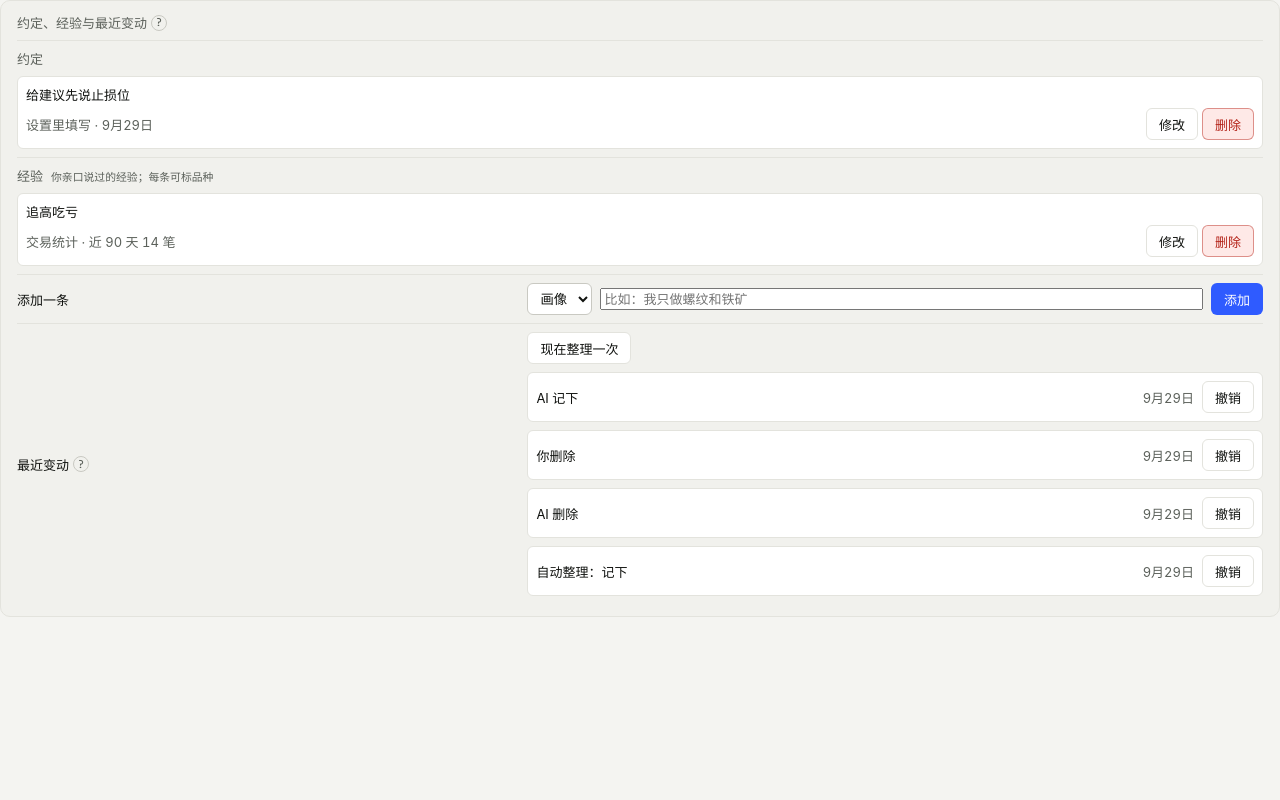
the consolidate button posts, reports its result and shows a 429's detail
The image size is (1280, 800).
Expected: the text "给建议先说止损位" is shown, [26,87,130,103]
Click the button "现在整理一次": x=579, y=348 [527,332,631,364]
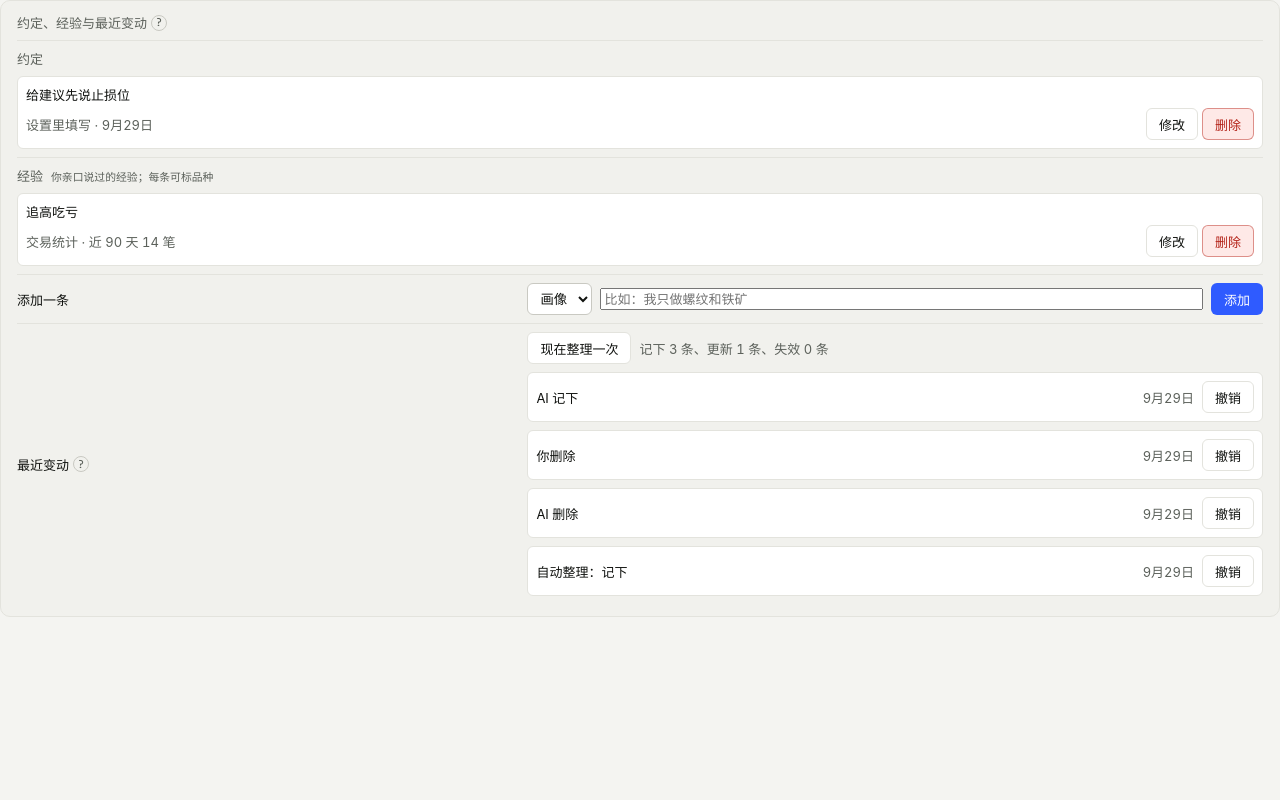
Now the text "记下 3 条、更新 1 条、失效 0 条" is shown, box [639,338,829,358]
Click the button "现在整理一次": x=579, y=348 [527,332,631,364]
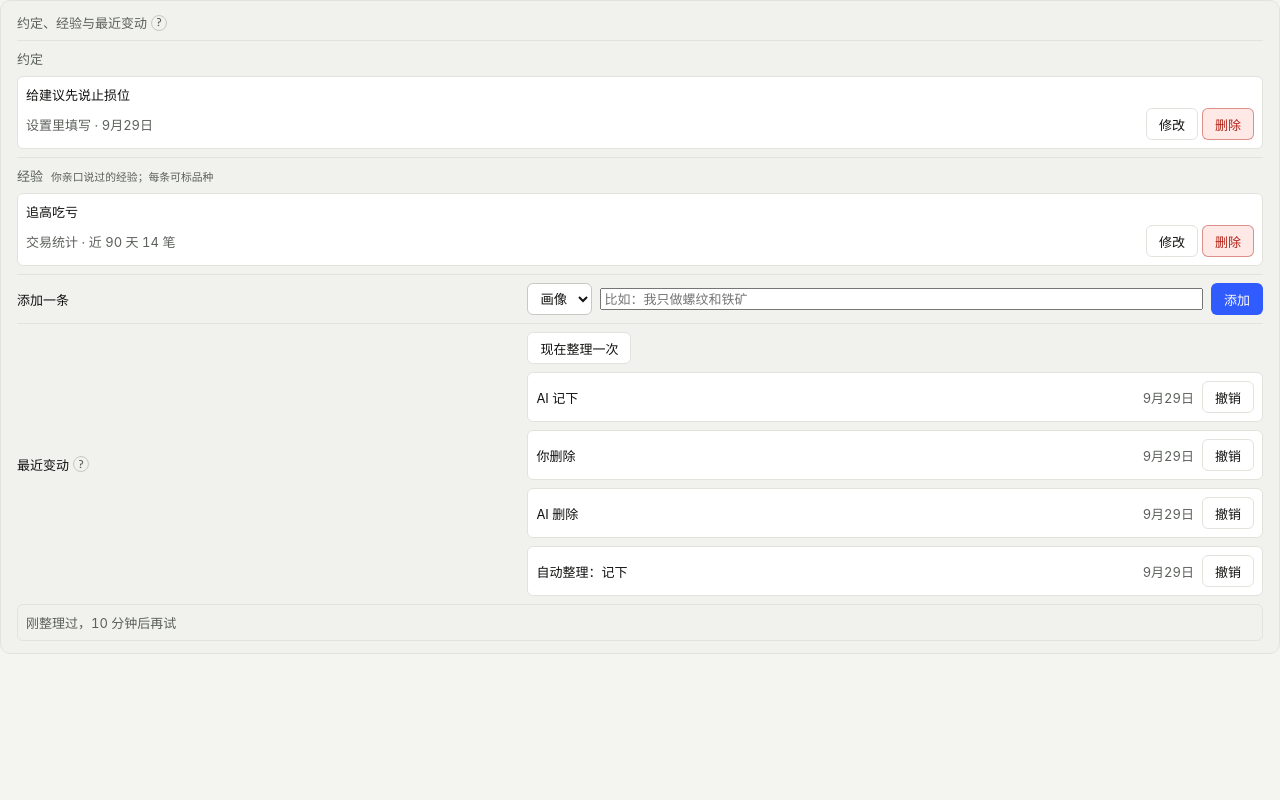
Now the message reads "刚整理过，10 分钟后再试", box [26,615,176,631]
